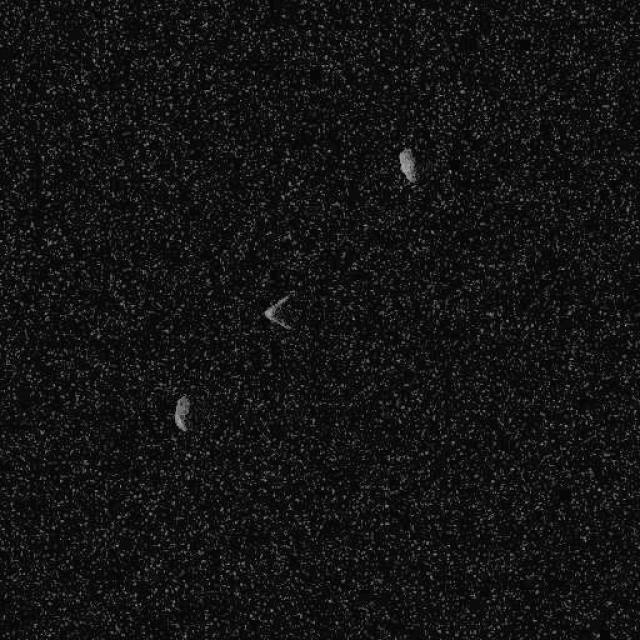D2: (262, 291, 294, 330), (172, 393, 192, 432), (398, 146, 418, 185)
